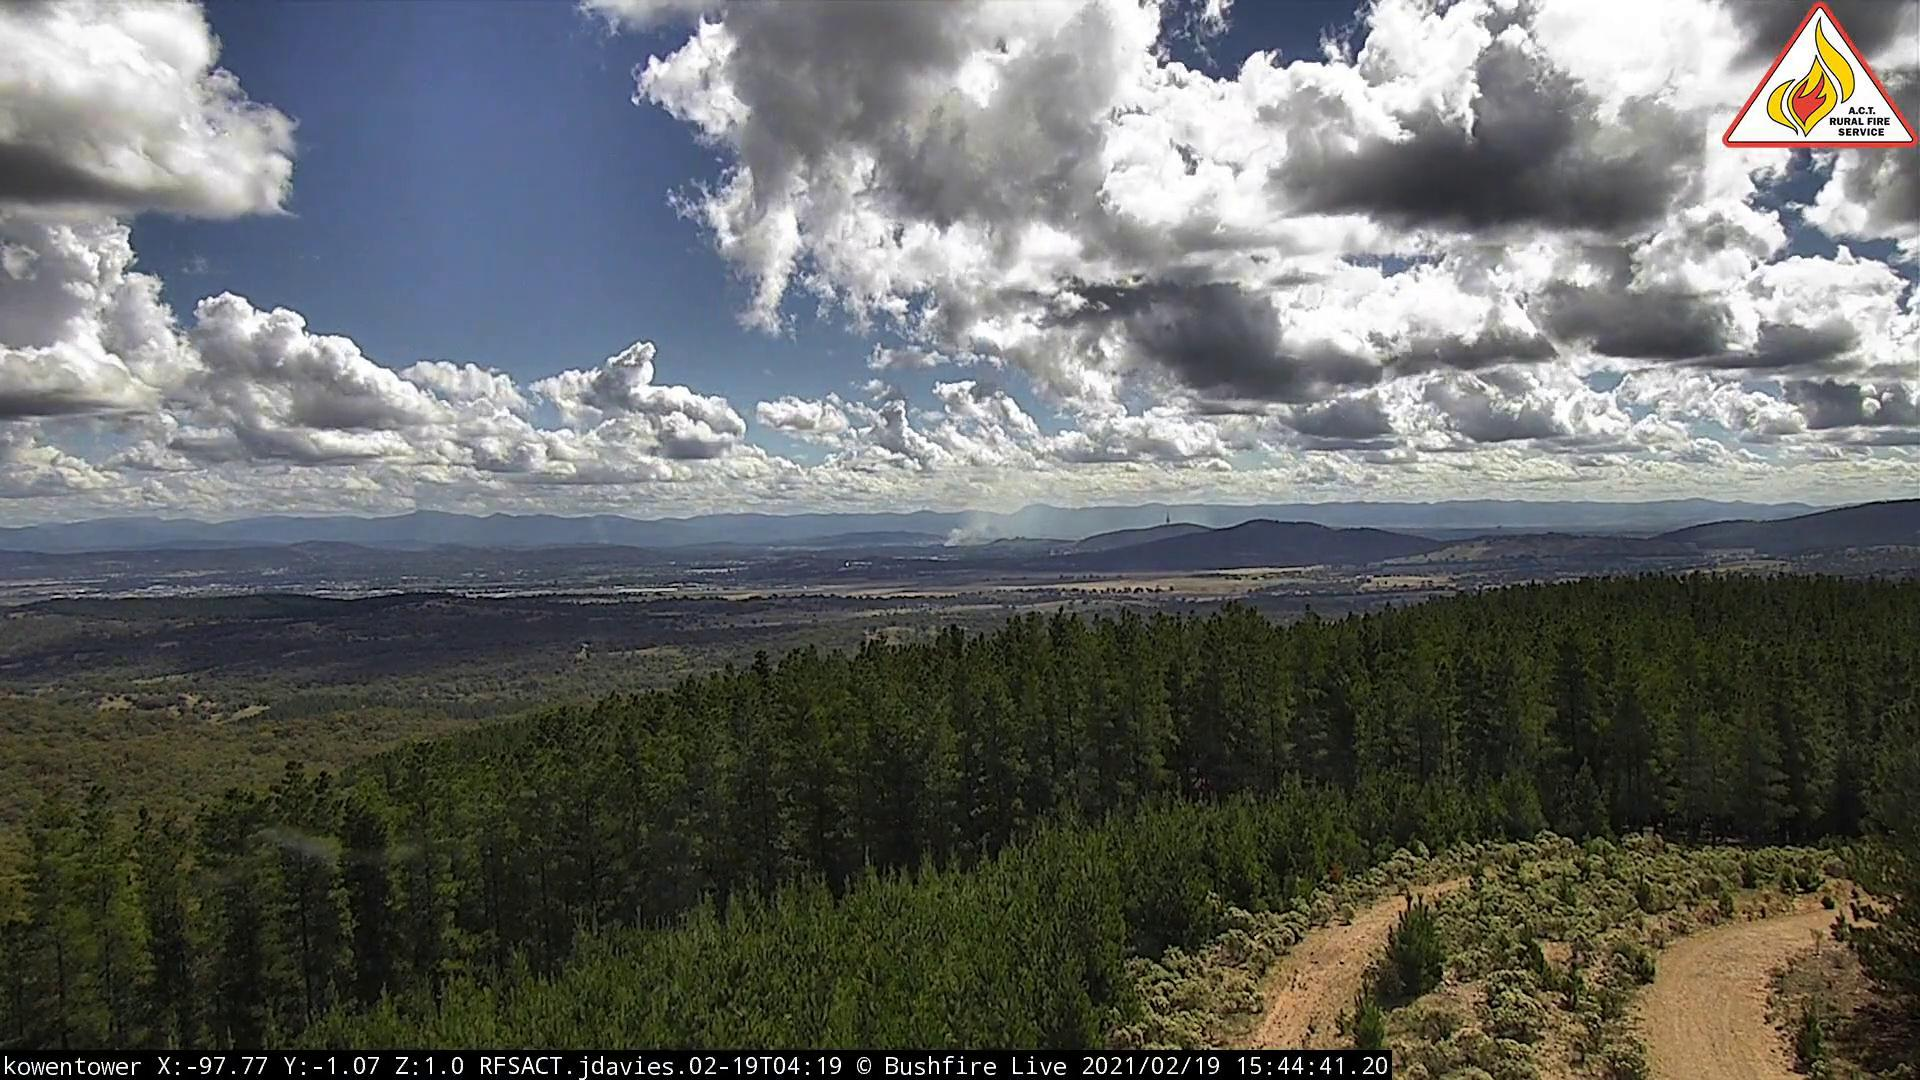Smoke: (939, 501, 1043, 553), (593, 529, 615, 553)
